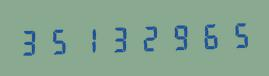five: (46, 23, 74, 58), (220, 17, 248, 52)
nine: (162, 19, 190, 54)
one: (75, 22, 103, 57)
six: (191, 18, 219, 53)
three: (17, 24, 45, 59), (104, 21, 132, 56)
two: (133, 20, 161, 55)
